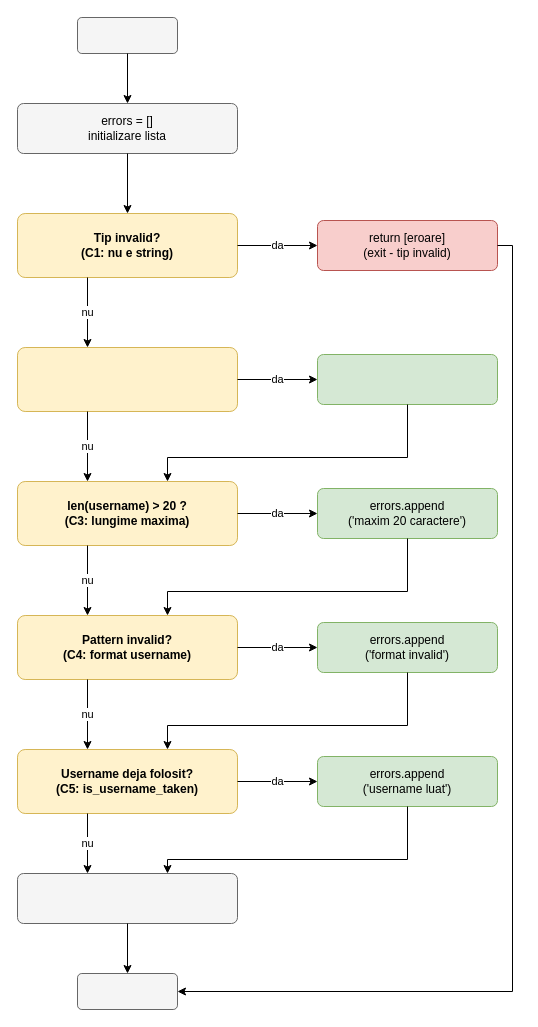
Some shapes in this 538 by 1027 pixel diagram are drawn without their labels. Each missing label, with the centre of its shape:
"End" belongs at (x=127, y=991).
"errors.append ('minim 3 caractere')" belongs at (x=407, y=379).
"len(username) < 3 ? (C2: lungime minima)" belongs at (x=127, y=379).
"return errors (lista finala)" belongs at (x=127, y=898).
"Start" belongs at (x=127, y=35).
